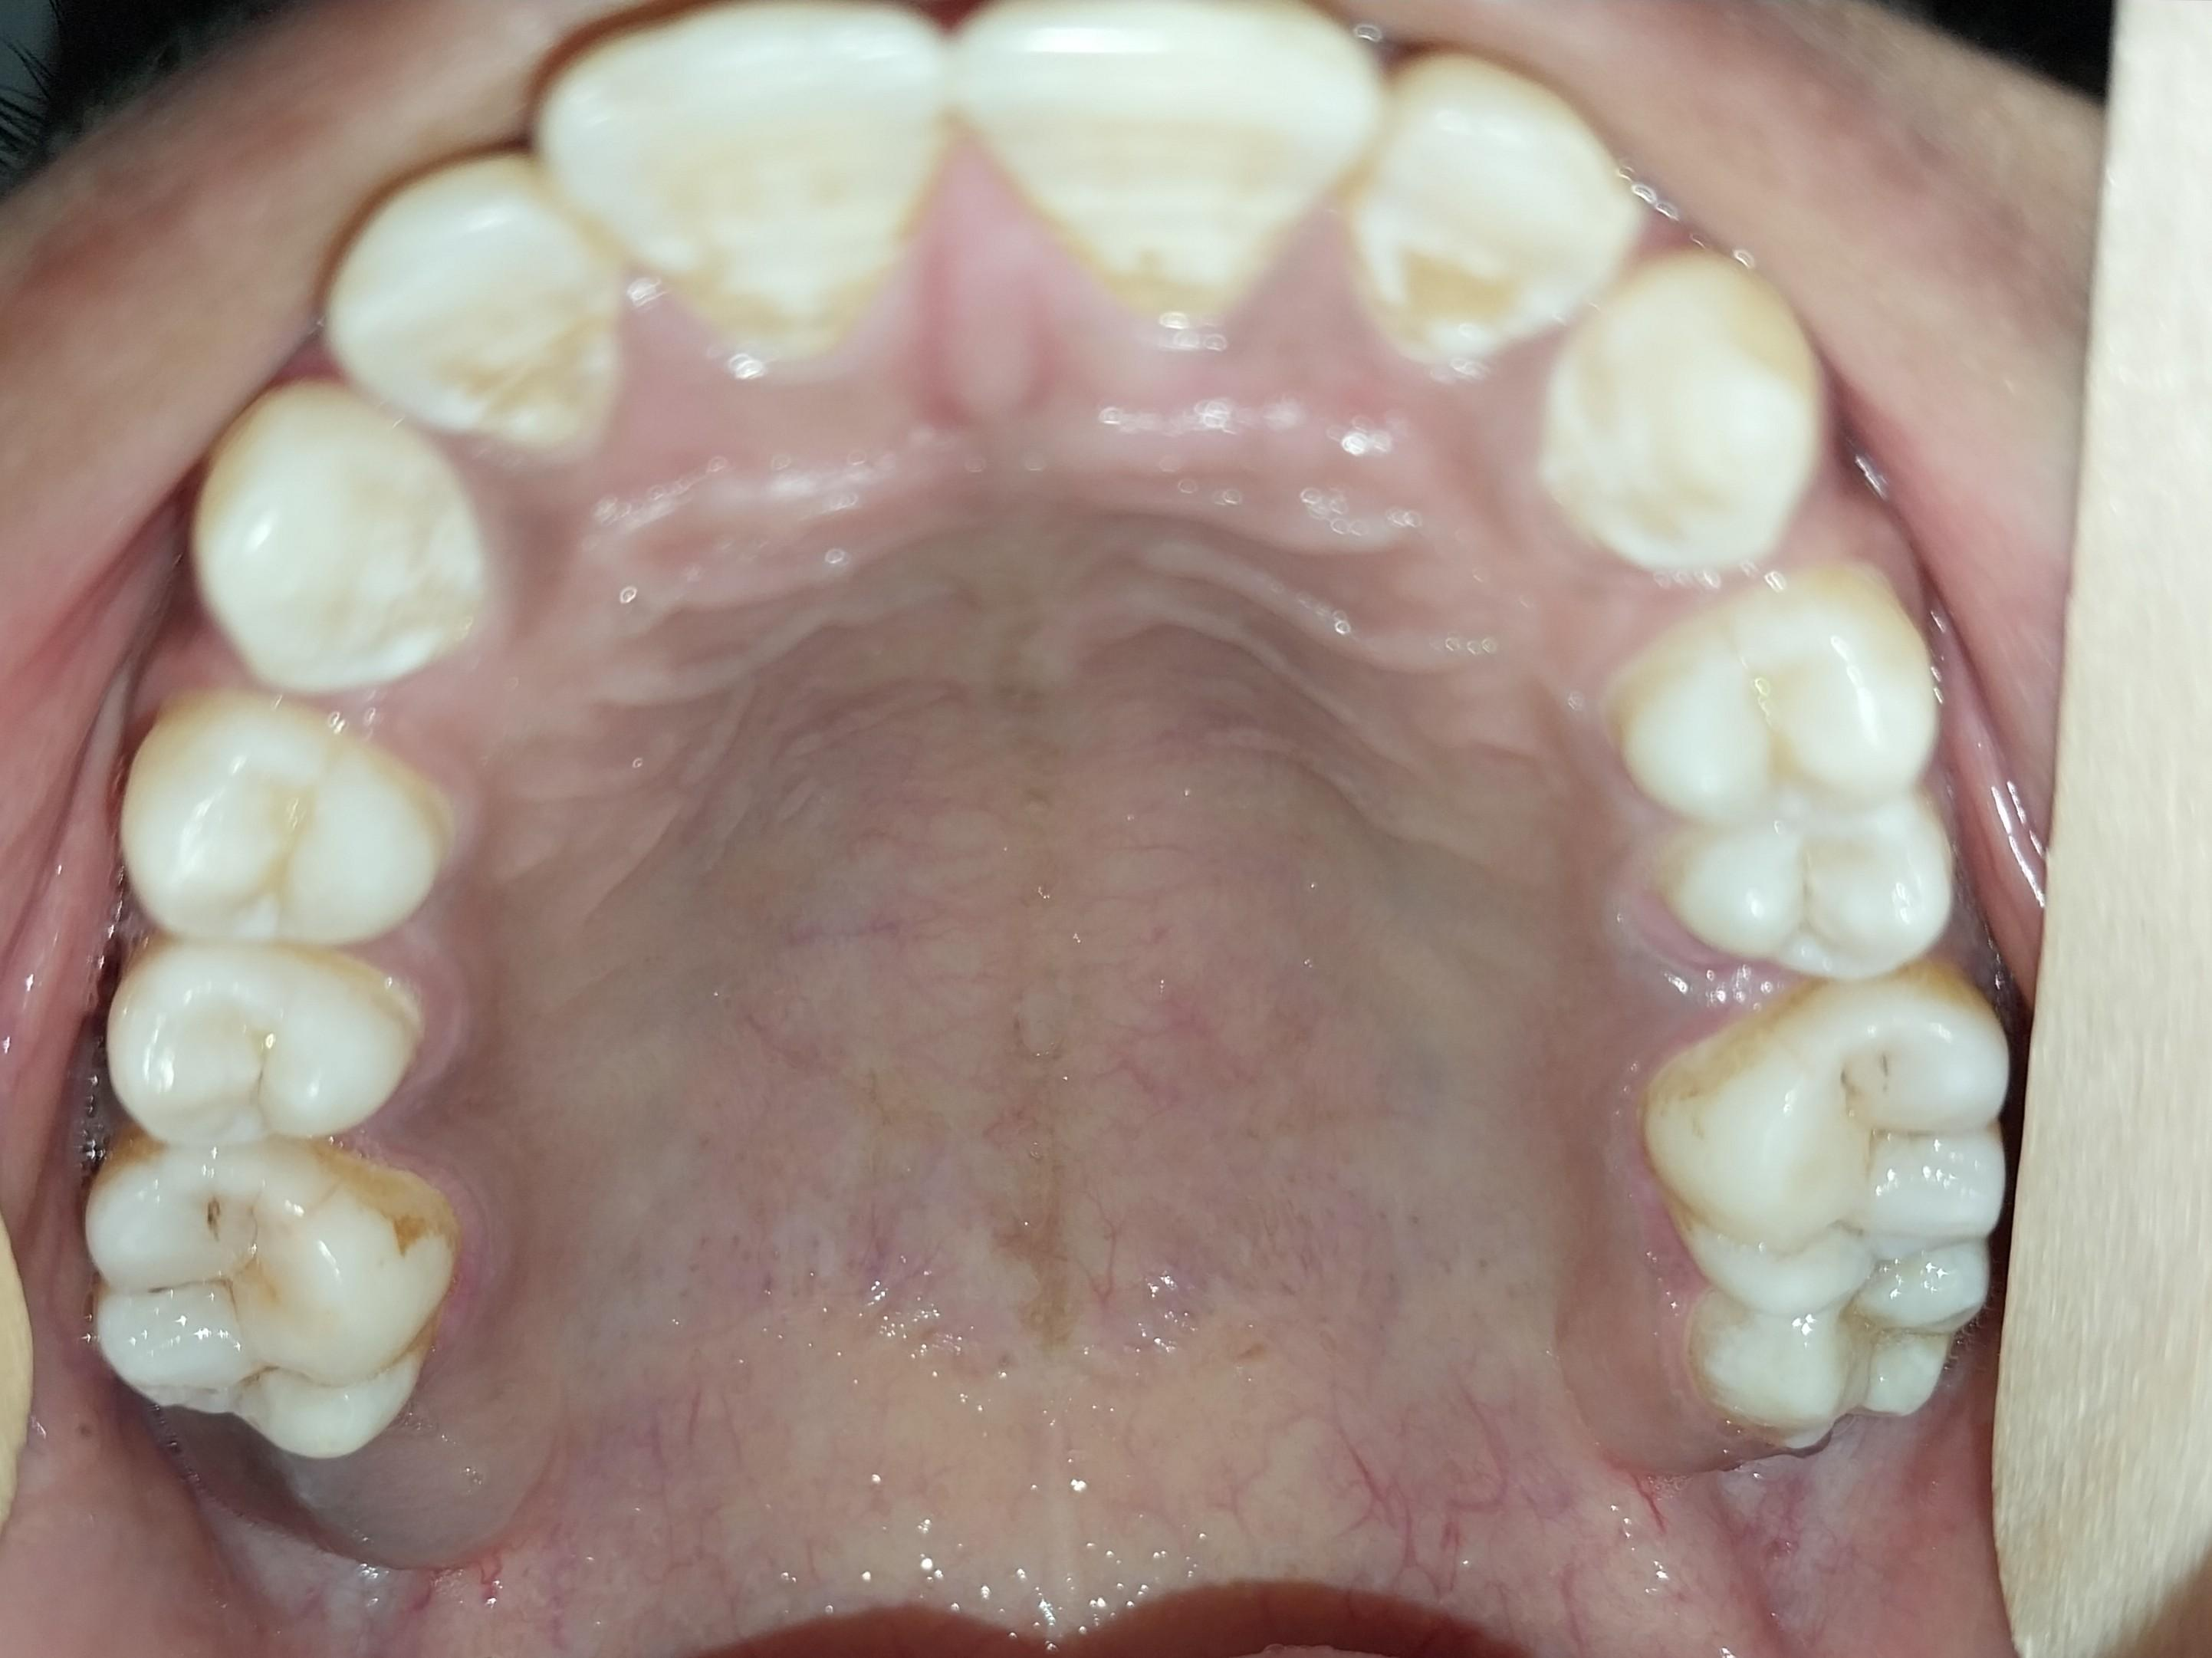D: (87, 1137, 449, 1462)
